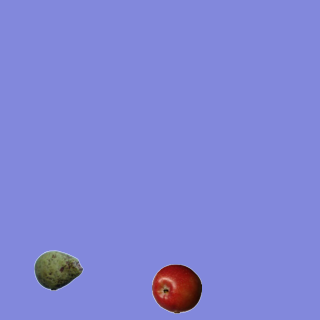Apple Braeburn: (151, 263, 201, 313)
Pear Stone: (33, 245, 83, 295)
